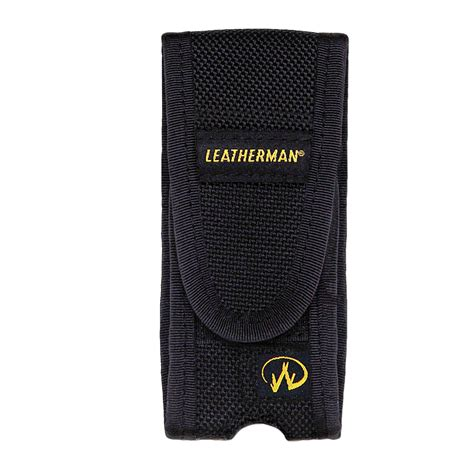nylon: (156, 29, 347, 443)
